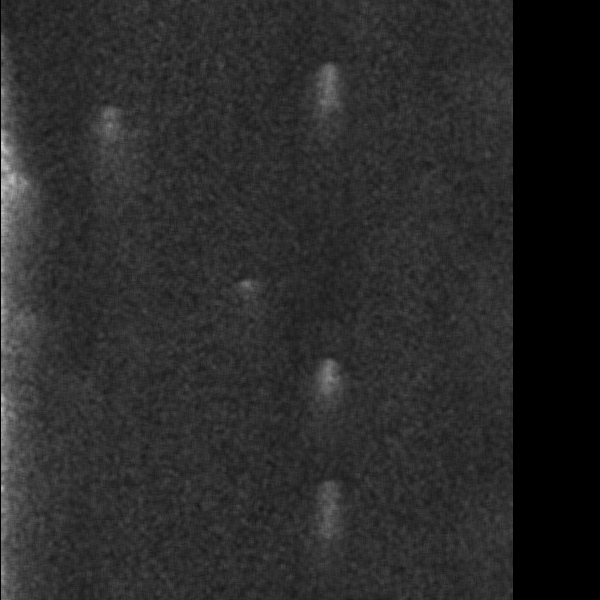spark: (102, 53, 117, 83)
